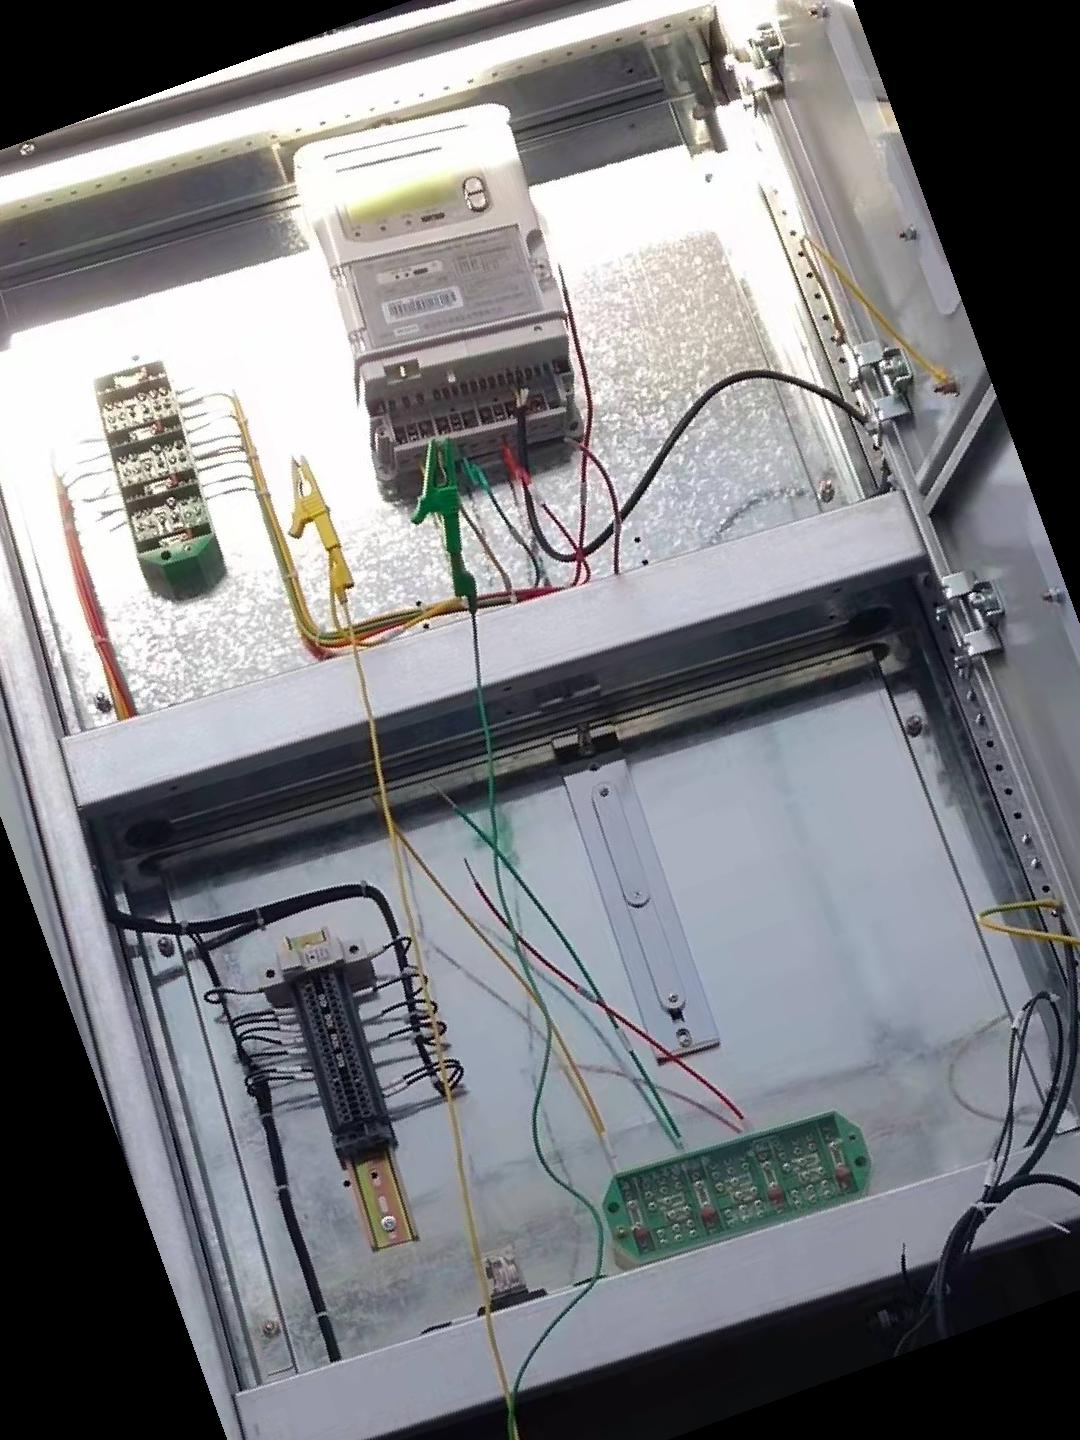digital: (297, 103, 568, 375)
